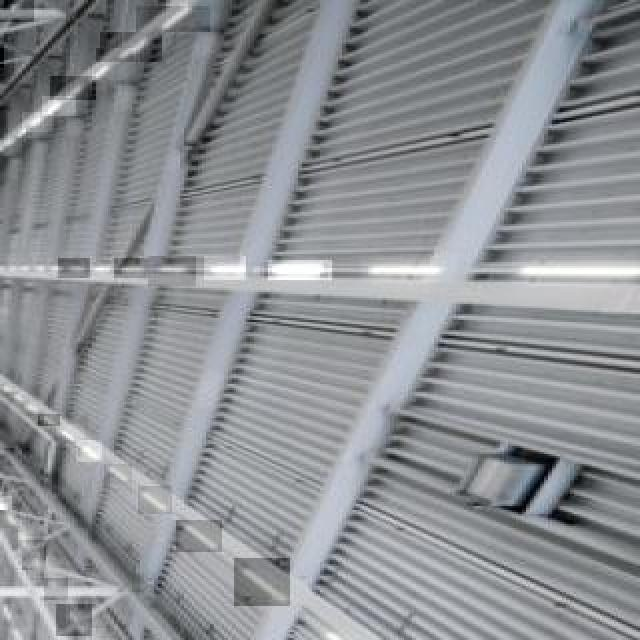fluorescent tube: (225, 546, 311, 609), (513, 243, 640, 285), (360, 251, 444, 289), (258, 253, 338, 280), (178, 514, 222, 551), (56, 604, 91, 632), (320, 628, 398, 640), (144, 487, 171, 515)
